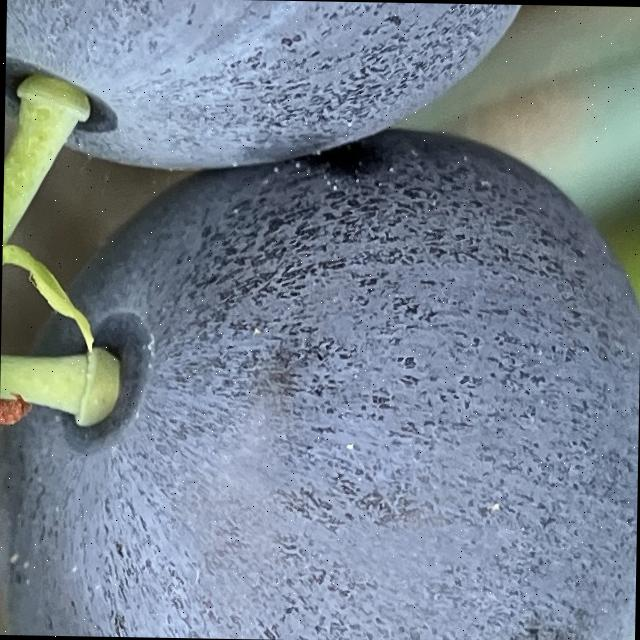Blueberries: (0, 121, 640, 640), (2, 0, 558, 182)
